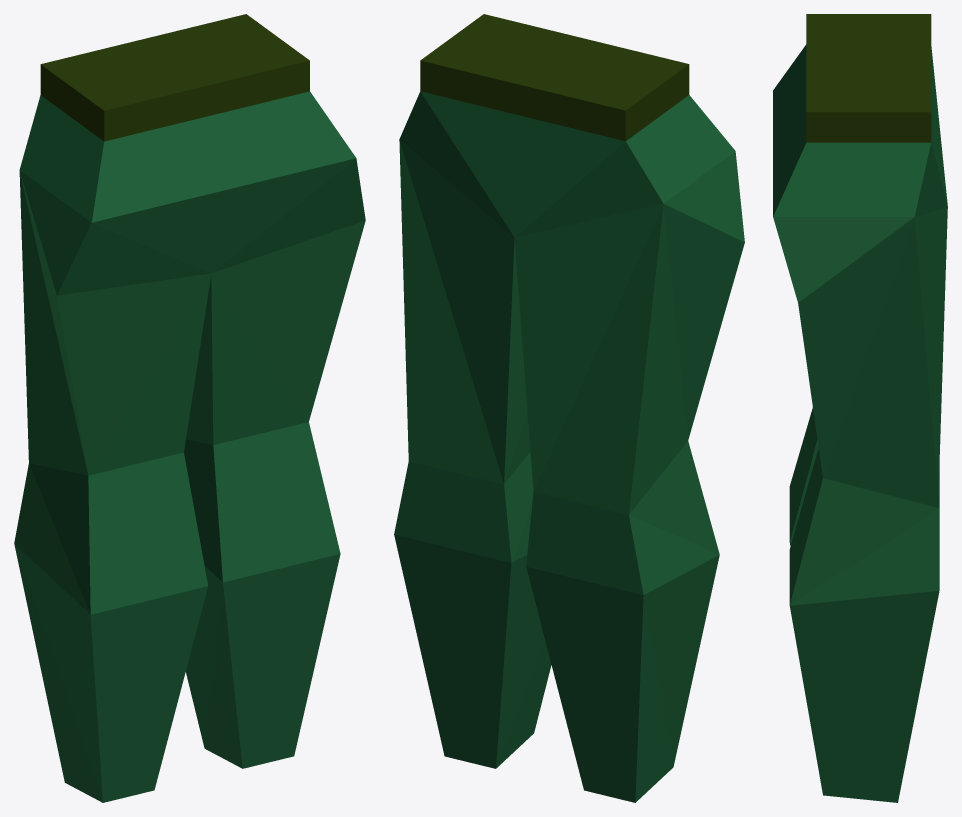
The model's file is player_female_legs_70_0.obj.
3 renders of one model, left to right at view 1: azimuth 30°, elevation 25°; view 2: azimuth 150°, elevation 25°; view 3: azimuth 270°, elevation 25°, orthographic.
Size of the model in its own units: 0.3281 by 0.7188 by 0.1641.
